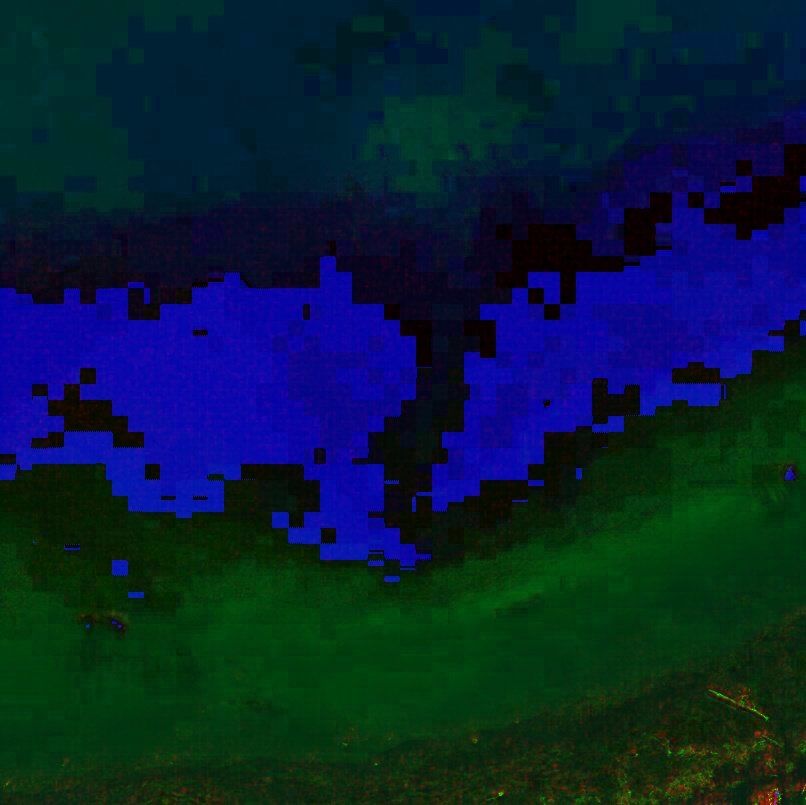rip_current: (296, 134, 578, 501)
